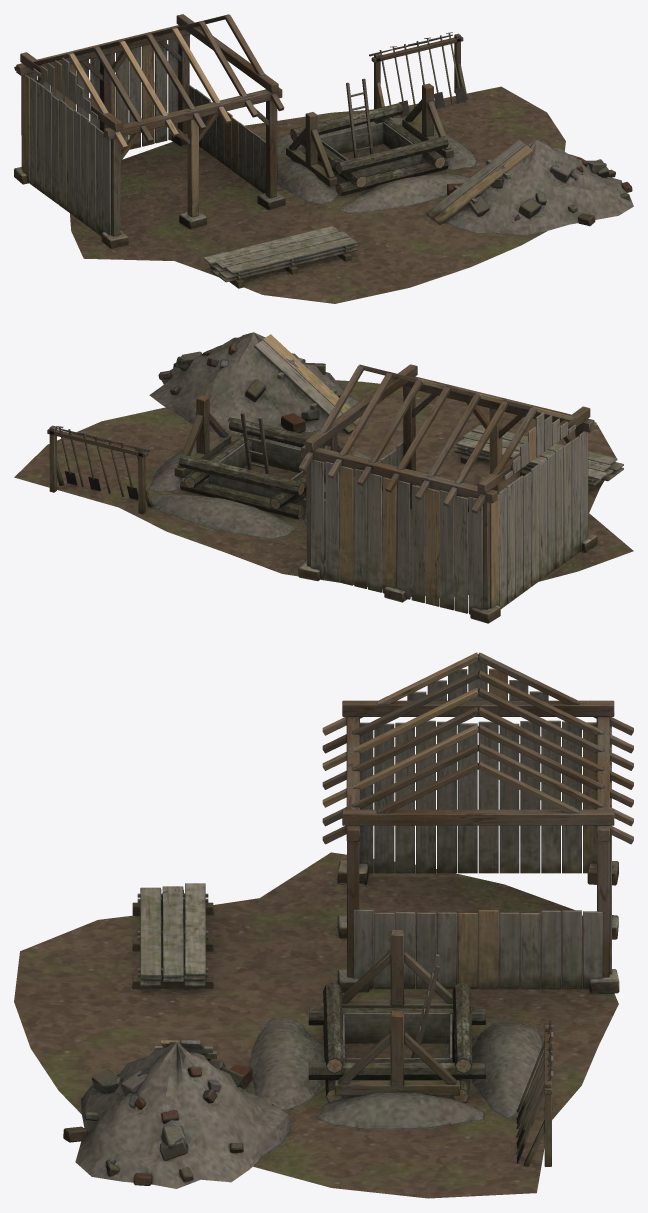
Rendered from mining_camp_build2.glb.
3 views of the same model, one above another, from view 1: azimuth 30°, elevation 25°; view 2: azimuth 150°, elevation 25°; view 3: azimuth 270°, elevation 25° (orthographic). The views are drawn at different scales.
Parts seen in each view (by area): view 1: mining_camp_build2_LOD0; view 2: mining_camp_build2_LOD0; view 3: mining_camp_build2_LOD0.
Part boxes in pixels (<box>): mining_camp_build2_LOD0: <box>14,14,633,303</box>; mining_camp_build2_LOD0: <box>14,332,633,623</box>; mining_camp_build2_LOD0: <box>14,652,633,1198</box>.
Size of what is drawn, in the model's own units: 11.13 by 3.38 by 8.43.
Materials: 1 (1 with a texture image).
